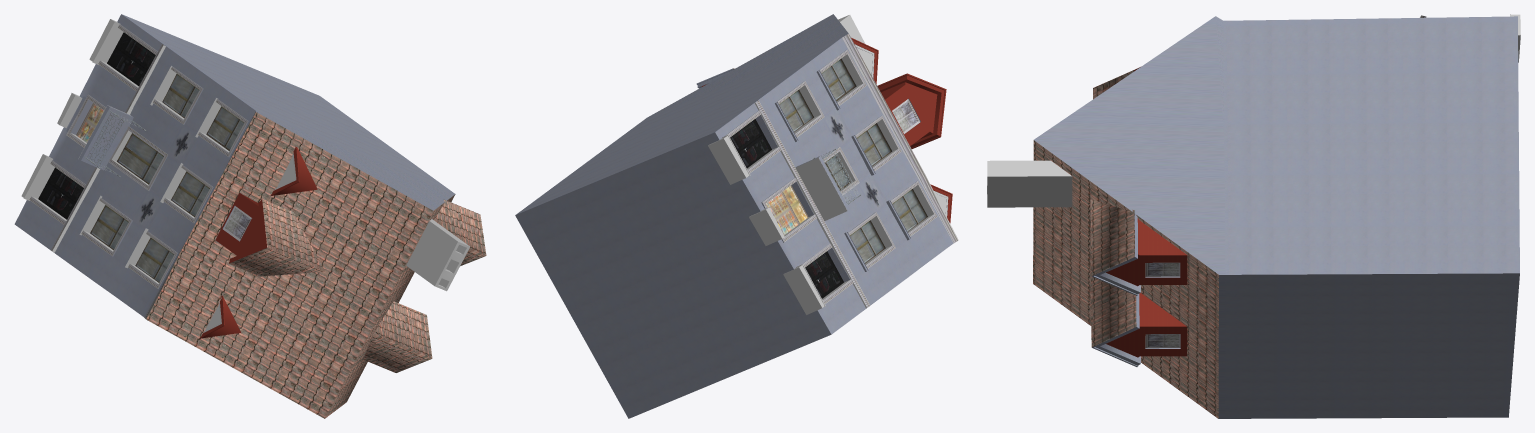
File: Olevimagi_6.obj
3 views of the same model, side by side, from view 1: azimuth 30°, elevation 25°; view 2: azimuth 150°, elevation 25°; view 3: azimuth 270°, elevation 25° (orthographic). The views are drawn at different scales.
Visible parts, largest first — view 1: polySurface168; view 2: polySurface168; view 3: polySurface168.
Part boxes in pixels (x1=…): polySurface168: x1=14, y1=14, x2=486, y2=418; polySurface168: x1=515, y1=14, x2=958, y2=418; polySurface168: x1=987, y1=14, x2=1520, y2=418.
Size of the model in its own units: 12.66 by 12.1 by 16.6.
